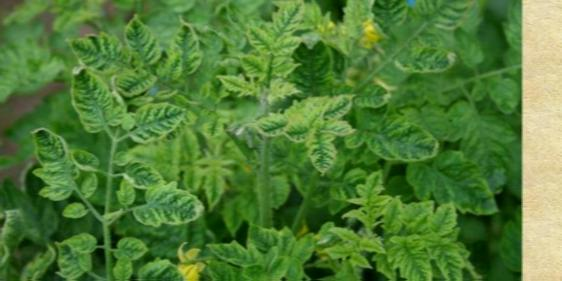Tomato leaf yellow virus: (396, 144, 504, 219), (367, 107, 442, 168), (26, 129, 85, 188), (144, 179, 208, 231), (115, 7, 163, 75), (68, 71, 114, 141), (169, 21, 207, 101), (59, 30, 128, 71), (127, 103, 186, 150), (392, 45, 455, 84), (266, 0, 319, 43), (305, 125, 341, 185), (197, 242, 262, 272), (420, 200, 459, 247), (411, 0, 476, 28), (361, 0, 405, 41), (244, 109, 291, 146), (426, 241, 468, 281), (232, 22, 273, 61), (313, 93, 358, 128), (395, 239, 430, 281), (125, 260, 193, 281), (290, 232, 317, 273), (378, 199, 403, 236), (274, 30, 300, 59), (325, 225, 359, 245)
